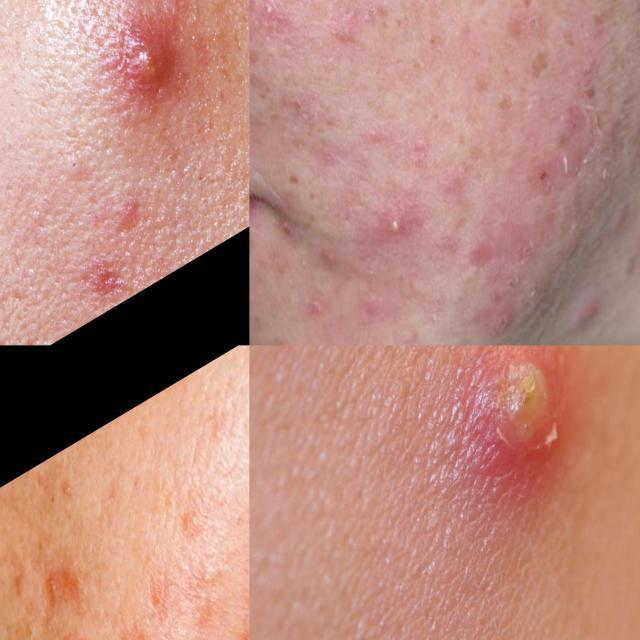cyst: (423, 349, 613, 477), (92, 32, 170, 99), (369, 202, 422, 251), (478, 285, 515, 332), (255, 6, 285, 24), (565, 302, 613, 312)
